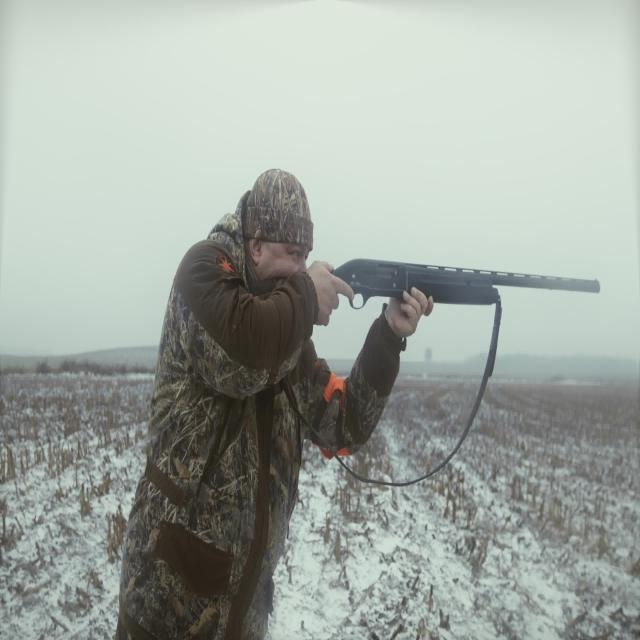Hunter: (125, 165, 312, 640)
Rifle: (323, 224, 609, 343)
